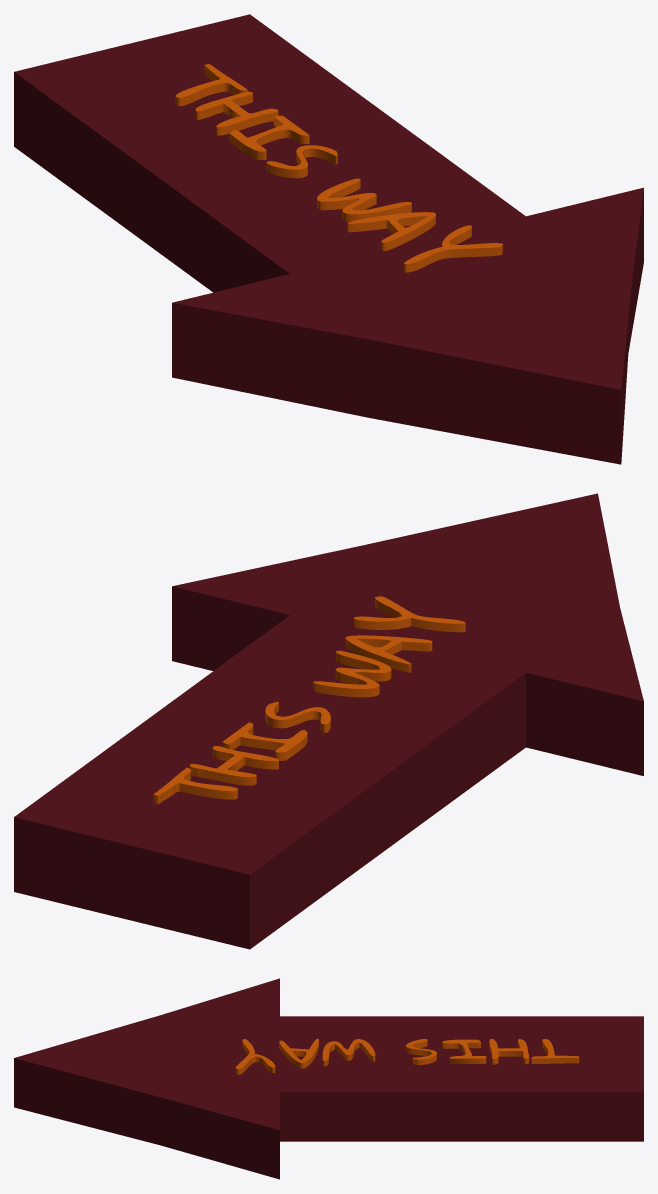
The model's file is sign.fbx.
The picture shows the model from 3 angles, top to bottom: view 1: azimuth 30°, elevation 25°; view 2: azimuth 150°, elevation 25°; view 3: azimuth 270°, elevation 25°; orthographic projection. The views are drawn at different scales.
Parts seen in each view (by area): view 1: Sign; view 2: Sign; view 3: Sign.
Boxes of the visible parts, left/top/right/bottom form: Sign: left=14, top=14, right=643, bottom=464; Sign: left=14, top=493, right=643, bottom=949; Sign: left=14, top=978, right=643, bottom=1179.
Size of the model in its own units: 400 by 67.42 by 701.
